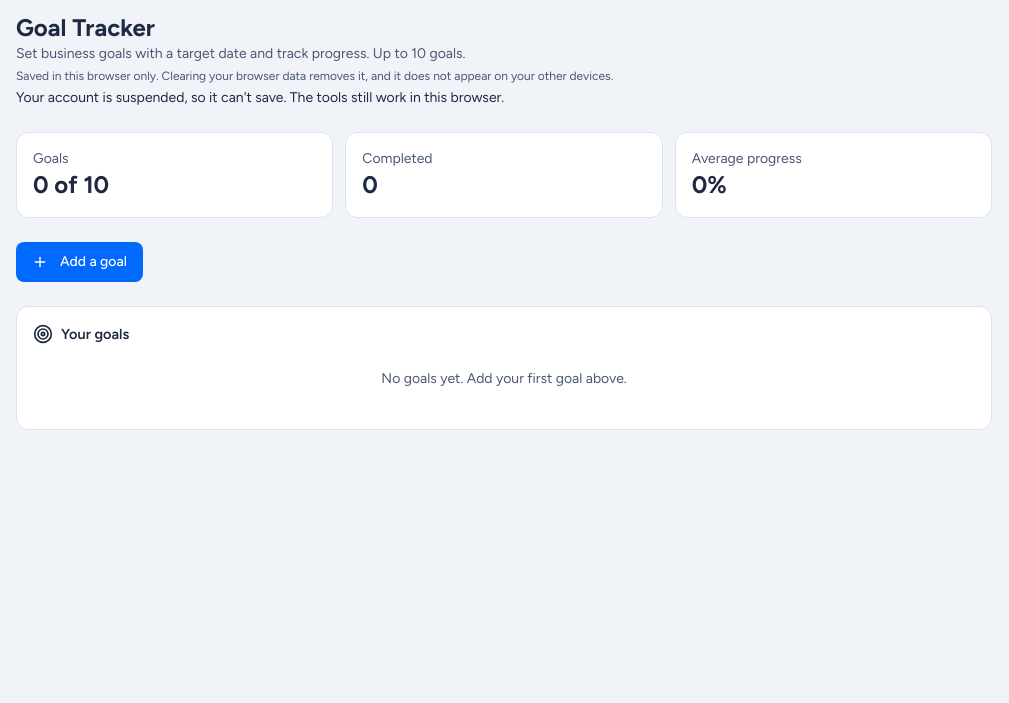
it: before the database update, and suspended accounts › suspended: tools open, nothing read from or written to the account, no plan buttons
Check: the text with test id "browser-reason" shows "Your account is suspended, so it can't save.", box x1=16 y1=89 x2=504 y2=106
Click the button "Add a goal": (79, 262) x1=16 y1=242 x2=143 y2=282
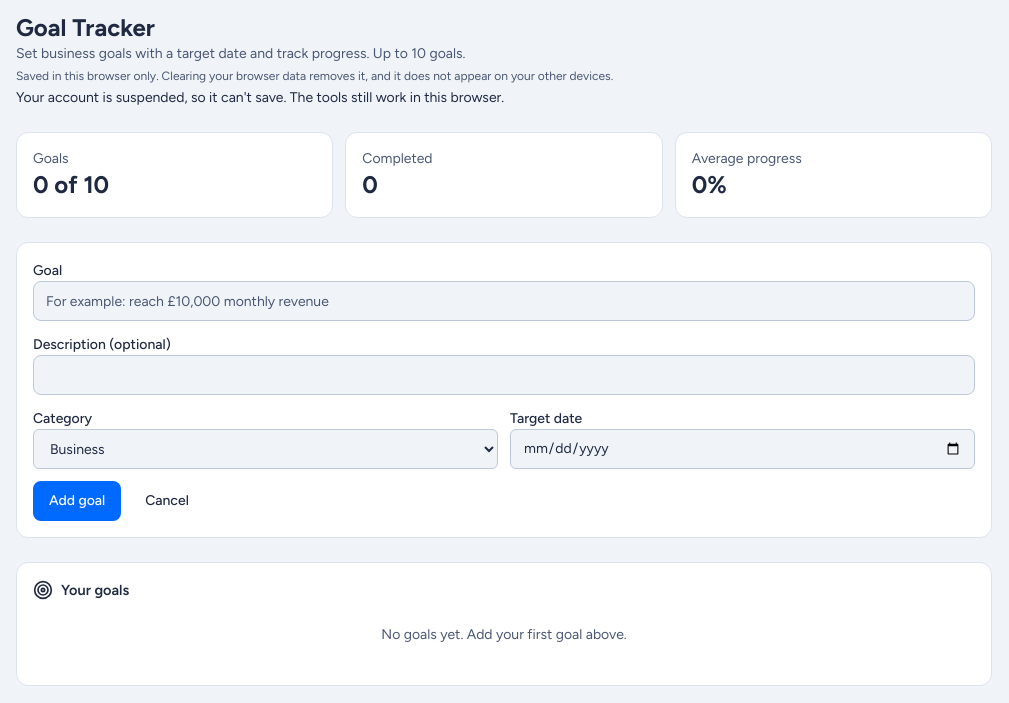
In the field labelled "Goal": (504, 301) x1=33 y1=281 x2=975 y2=321, type "Still works"
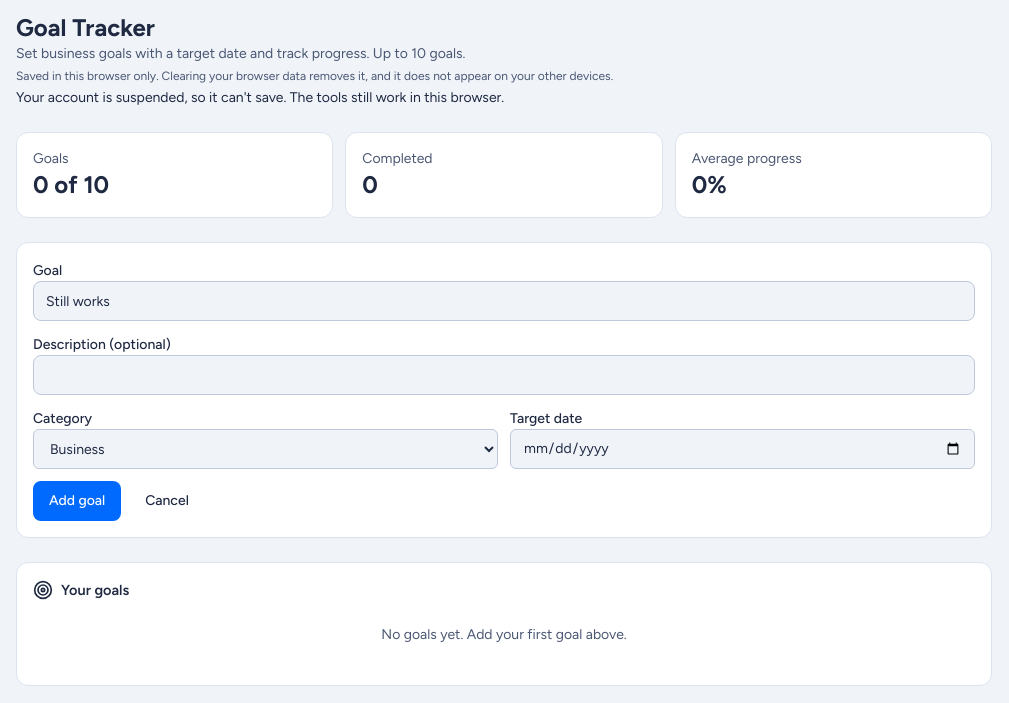
In the date field labelled "Target date": (742, 449) x1=510 y1=429 x2=975 y2=469, type "2027-03-01"
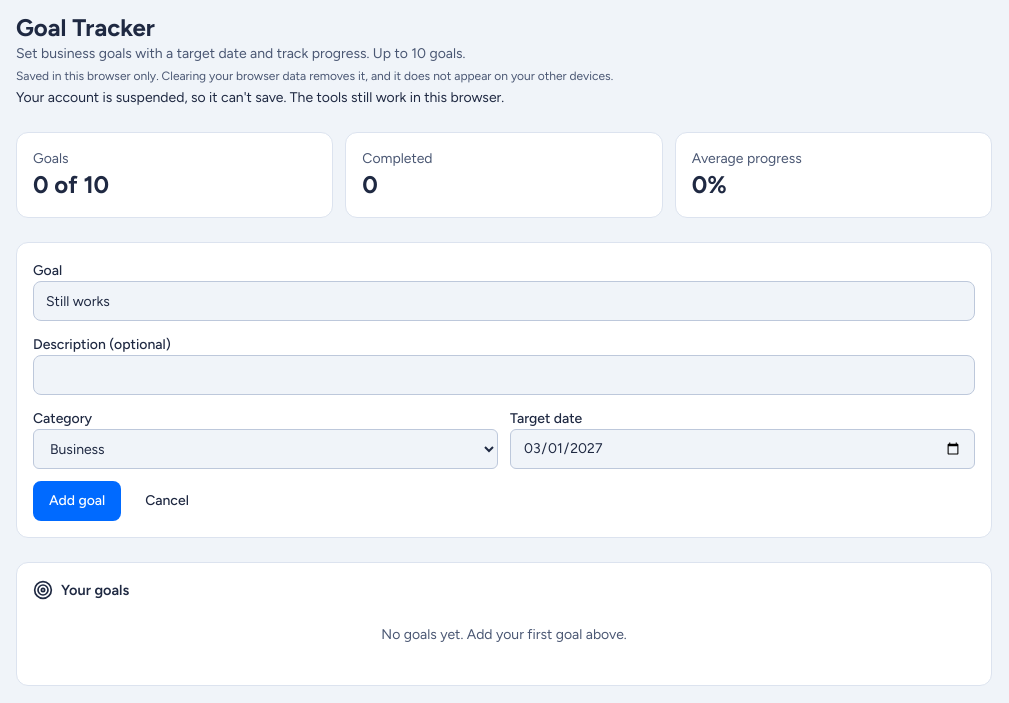
Submit the form named "Add a goal", box x1=16 y1=242 x2=992 y2=538
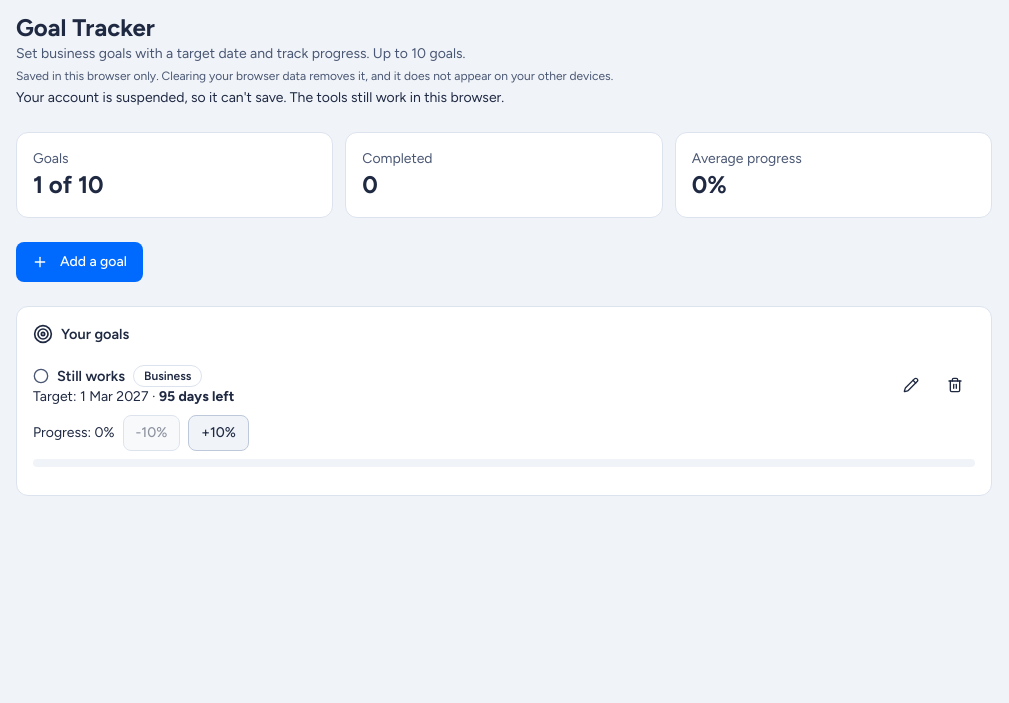
Check: the text "Still works" is shown, box x1=57 y1=365 x2=125 y2=387
